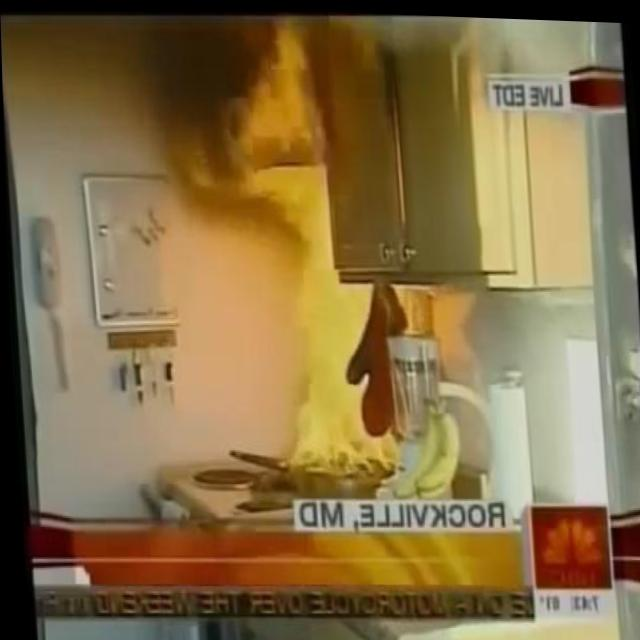fire: (208, 24, 402, 478)
